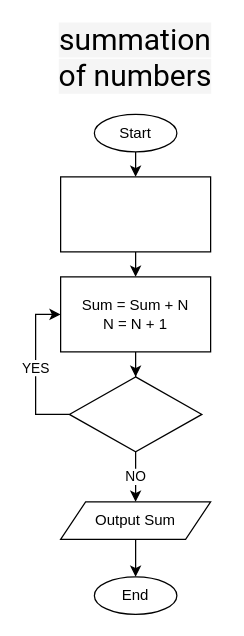
Image size: 244x636. Some labels were removed from this diagram. Here are the shapes that lost their labels. From the top down, the centre of each, then its label:
the point at 135,214: Sum = 0 N = 1 Limit = 10
the point at 135,414: N <= Limit
